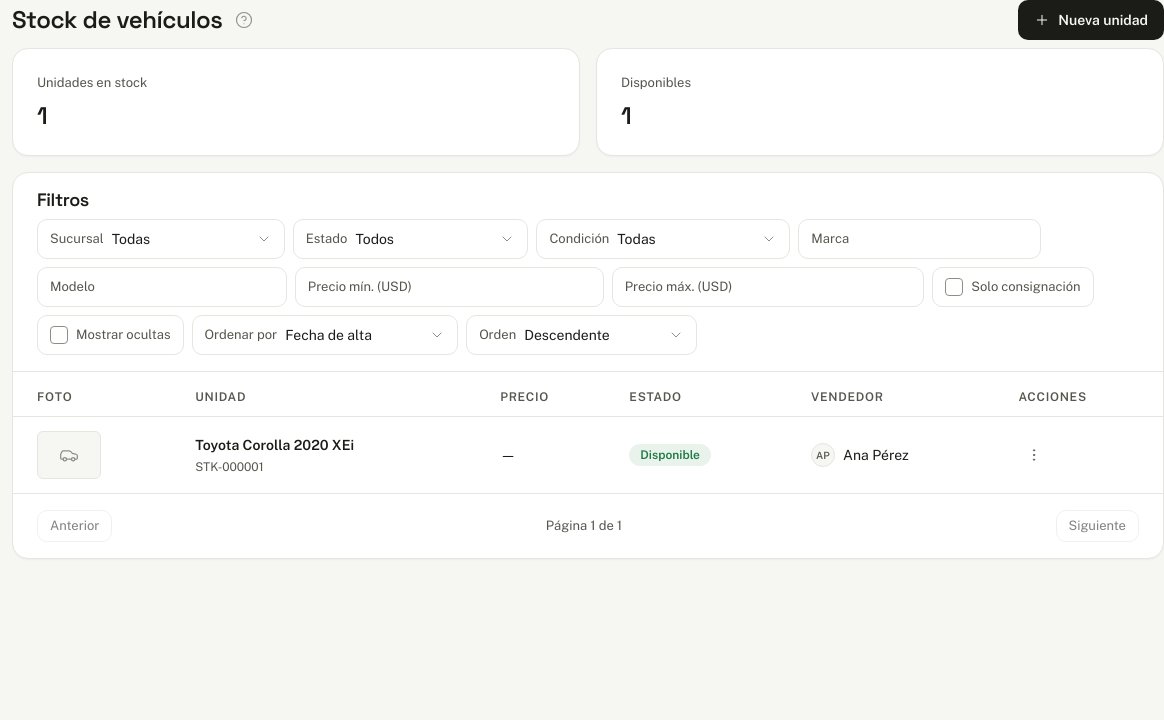
Test: VehicleListPage › ADMIN ve Nueva unidad / Editar / Eliminar y el vendedor resuelto a nombre
This screenshot has width=1164, height=720.
Expected: the text "Toyota Corolla 2020 XEi" is shown, [195,434,354,456]
What coordinates should you click on to do the following:
click the button named "Más acciones"
I would click on:
 (1034, 455)
Its box is [1018,439,1050,471].
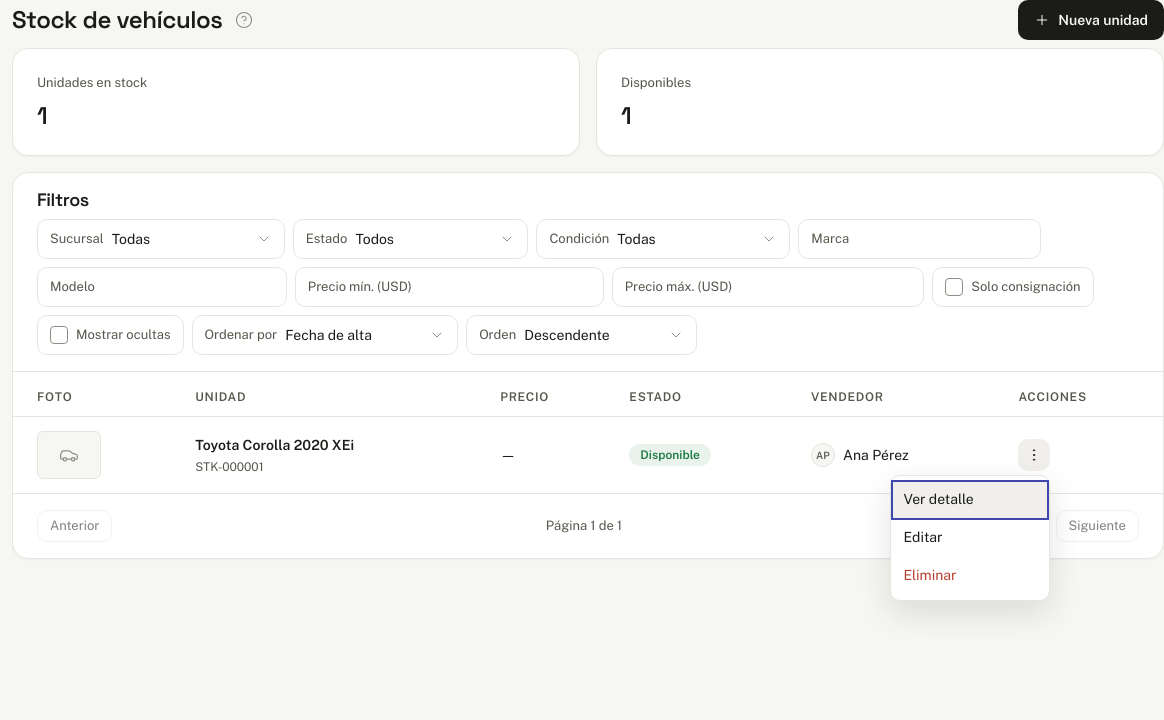
Expected: the text "STK-000001" is shown, [195,460,264,474]
Result: the menu item "Eliminar" is shown at [891,556,1049,596]
